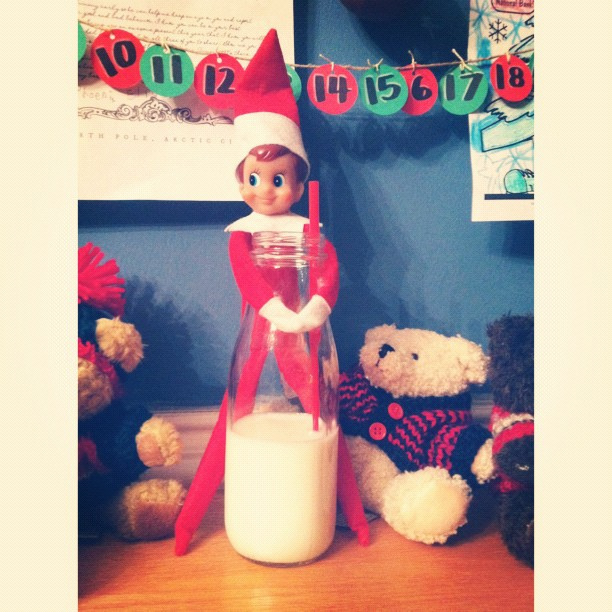glass of milk: (222, 298, 342, 562)
